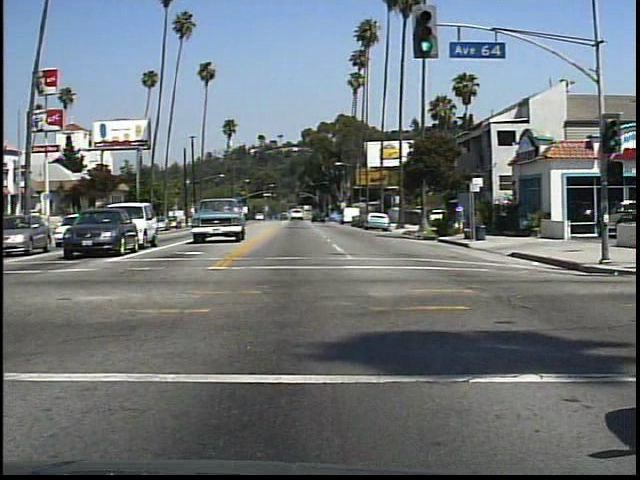person: (450, 202, 467, 237)
